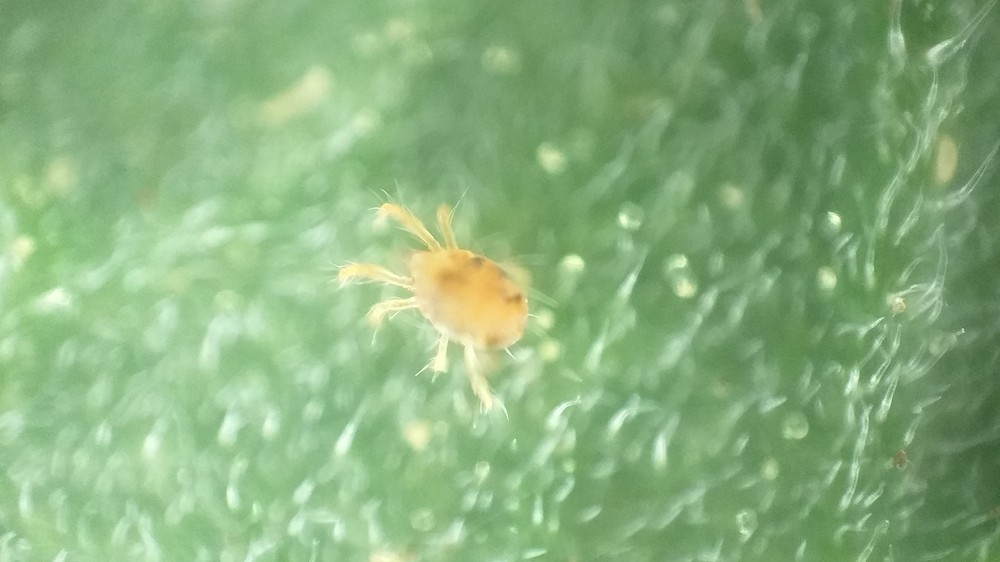Aracnido Rojo: (323, 183, 577, 425)
